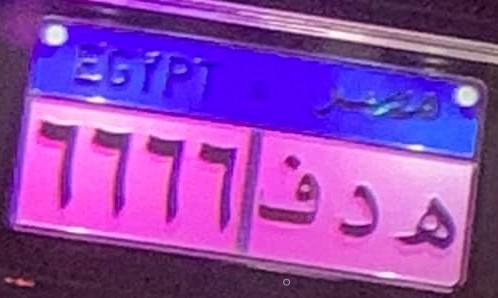6: (74, 128, 156, 220), (186, 134, 257, 231), (130, 132, 191, 229), (28, 122, 88, 208)
د: (319, 175, 398, 246)
ف: (252, 148, 326, 243)
ه: (378, 185, 448, 268)
